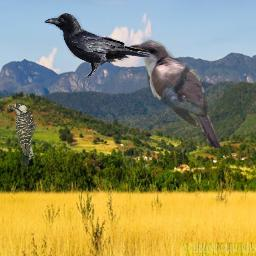Crow: (44, 13, 152, 80)
Cuckoo: (126, 38, 221, 152)
Woodpecker: (7, 102, 41, 170)
